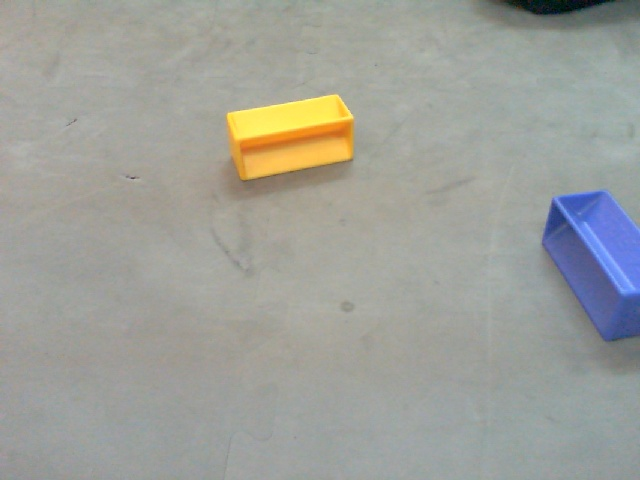BlueSample: (540, 185, 640, 346)
YellowSample: (220, 92, 362, 183)
